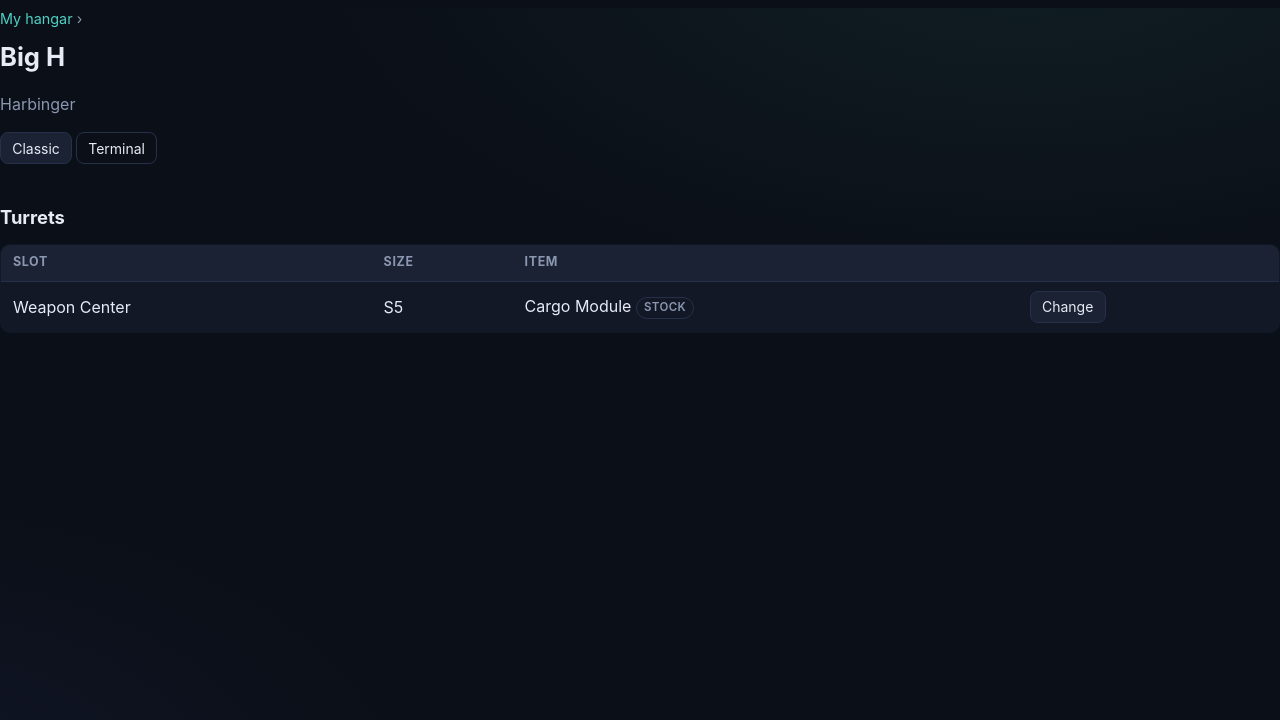
Test: ShipDetailPage › slots that come from a fitted item › fitting a parent re-reads the hangar and shows the child slots it brought
Click the button "Change" at coordinates (1068, 307), box [1030,291,1106,323]
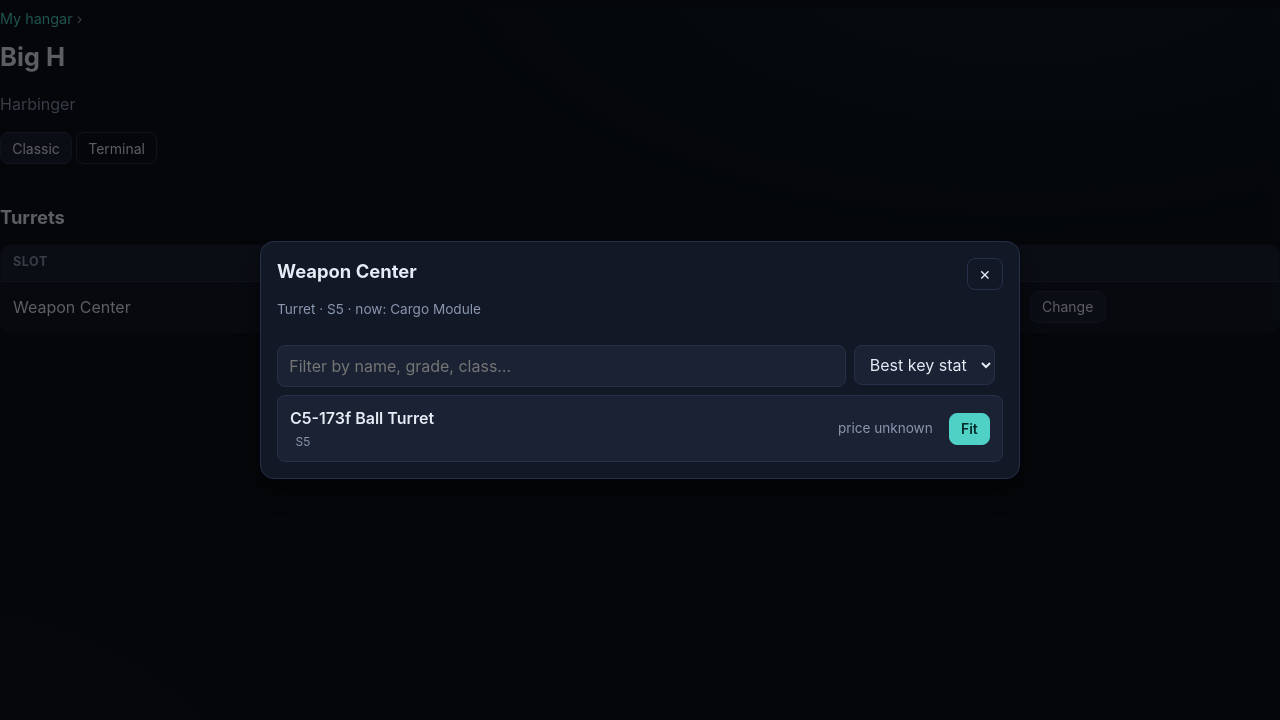
Click the button "Fit" at coordinates (969, 429), box [949,413,990,445]
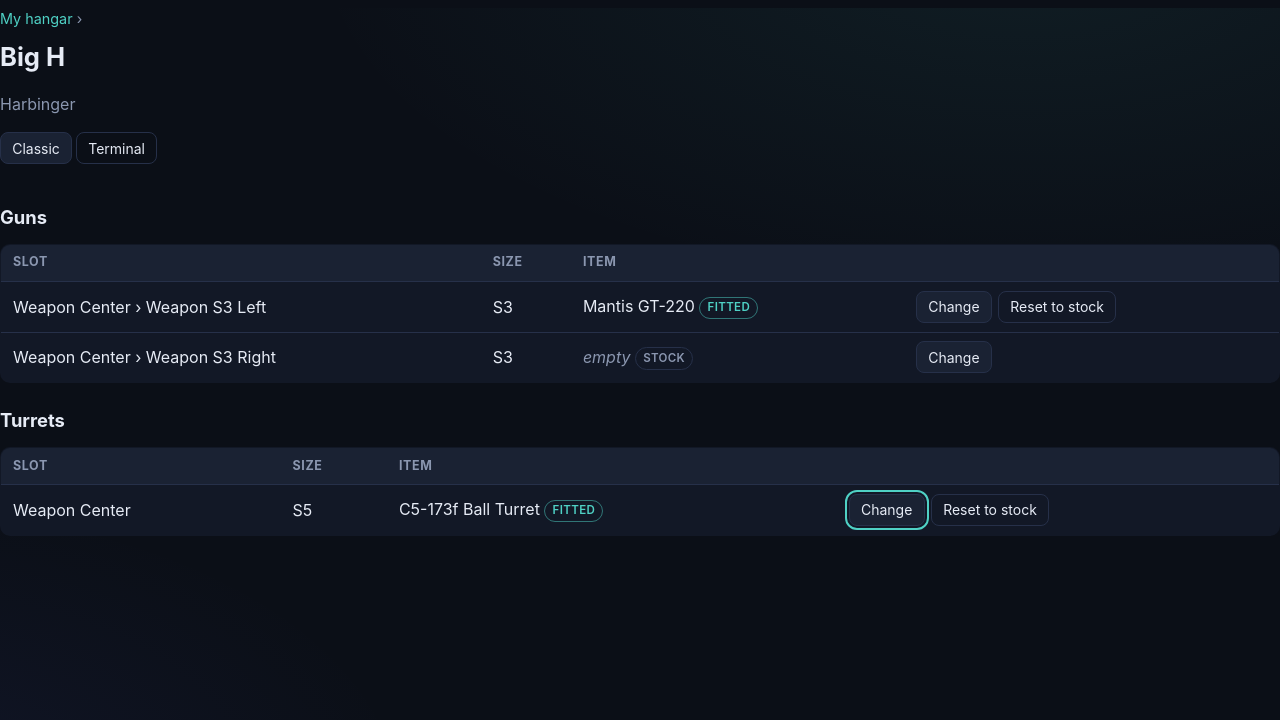
Result: the text "weapon center › weapon S3 left" is shown at [0,281,481,332]
Result: the text "weapon center › weapon S3 right" is shown at [0,332,481,383]
Result: the text "Mantis GT-220" is shown at [583,296,695,316]
